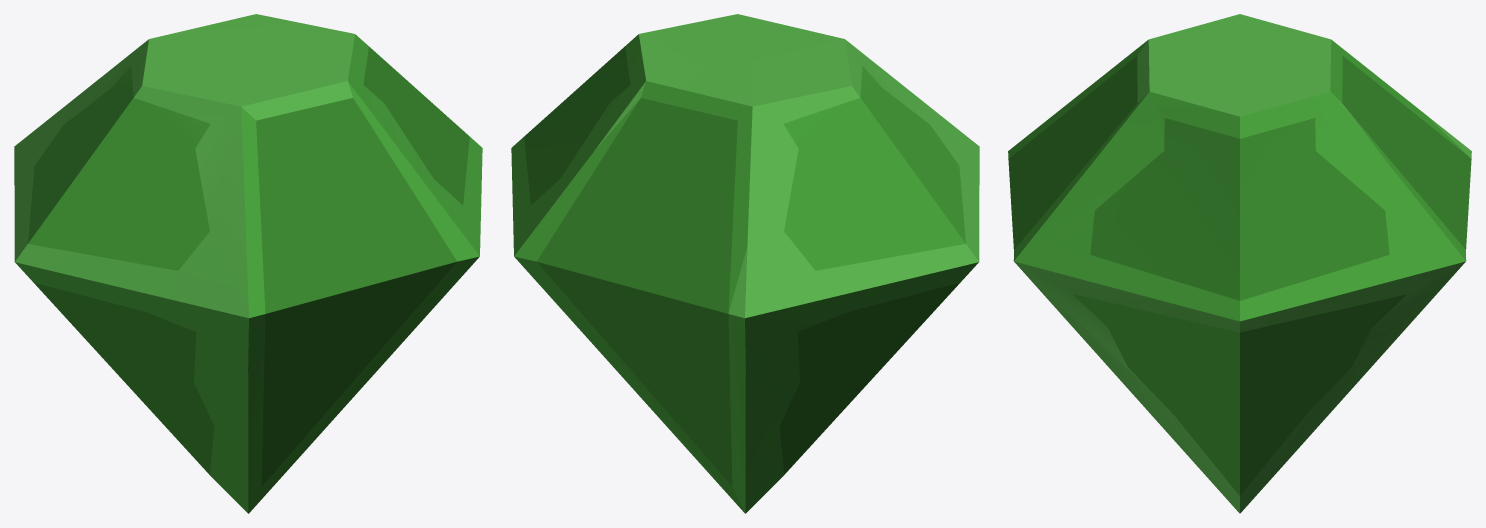
Rendered from SM_Prop_Treasure_Gem_06.fbx.
3 views of the same model, side by side, from view 1: azimuth 30°, elevation 25°; view 2: azimuth 150°, elevation 25°; view 3: azimuth 270°, elevation 25° (orthographic).
Visible parts, largest first — view 1: SM_Prop_Treasure_Gem_06; view 2: SM_Prop_Treasure_Gem_06; view 3: SM_Prop_Treasure_Gem_06.
Part boxes in pixels (<box>): SM_Prop_Treasure_Gem_06: <box>14,14,482,513</box>; SM_Prop_Treasure_Gem_06: <box>511,14,979,513</box>; SM_Prop_Treasure_Gem_06: <box>1008,14,1471,513</box>.
Bounding box in the file's own units: 13.33 × 12.36 × 11.58.
